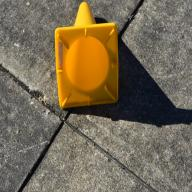cone: (54, 1, 118, 109)
